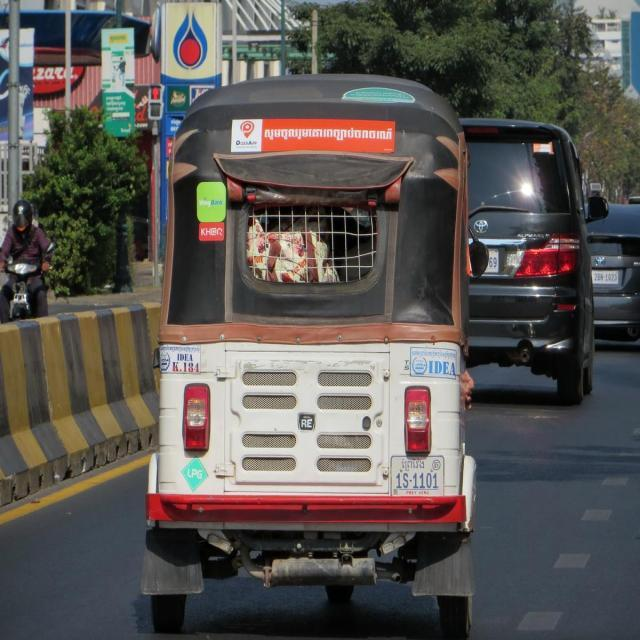Prey_Veng: (400, 455, 427, 470)
